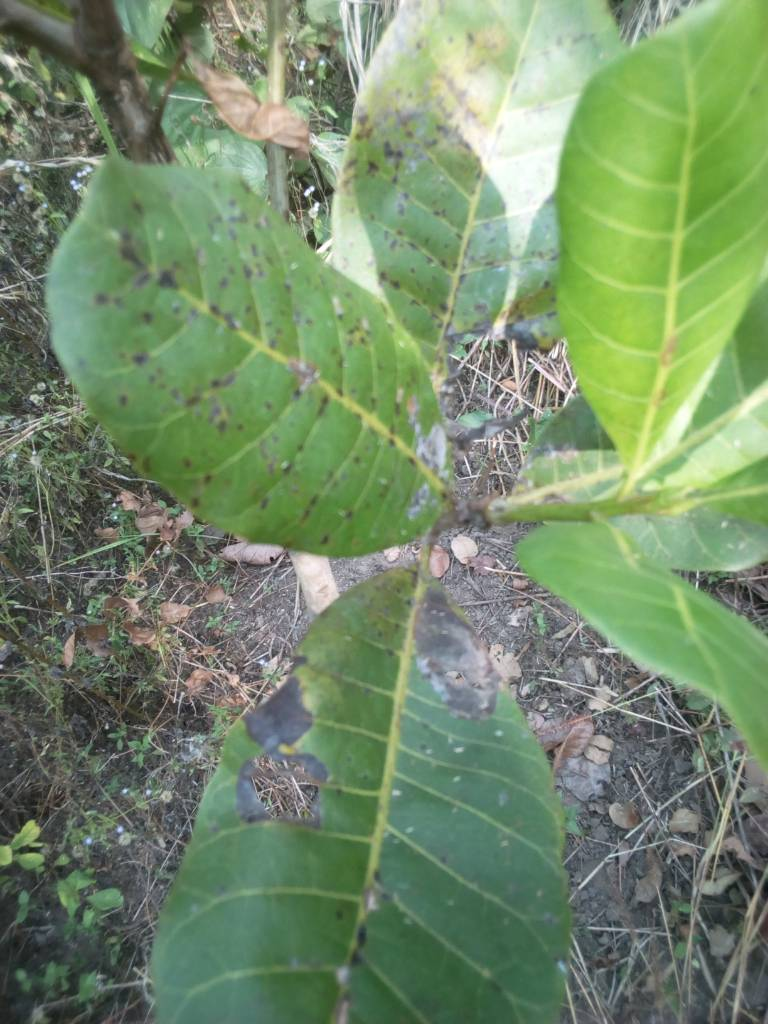Anthracnose: (50, 161, 446, 547), (338, 1, 561, 347)
